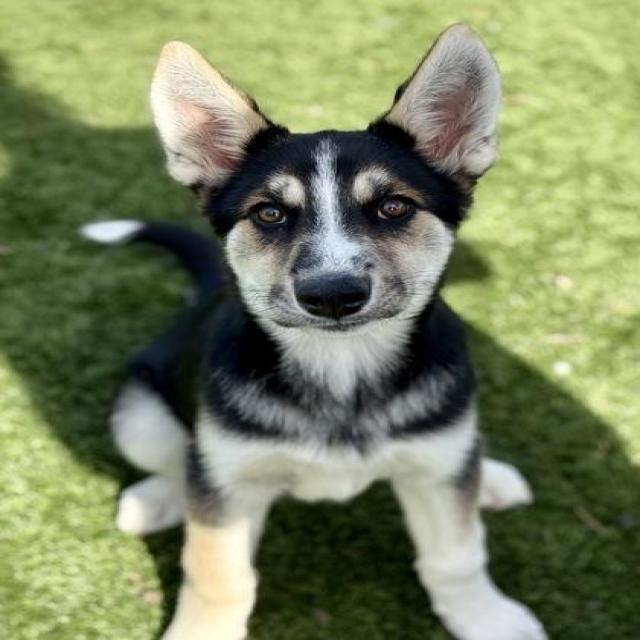siberian_husky_dog: (137, 7, 519, 352)
